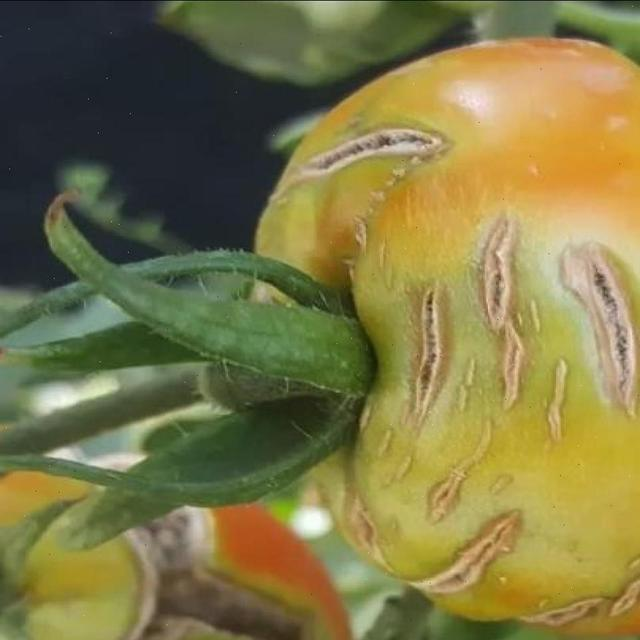Cracking Fruit: (24, 45, 415, 404)
